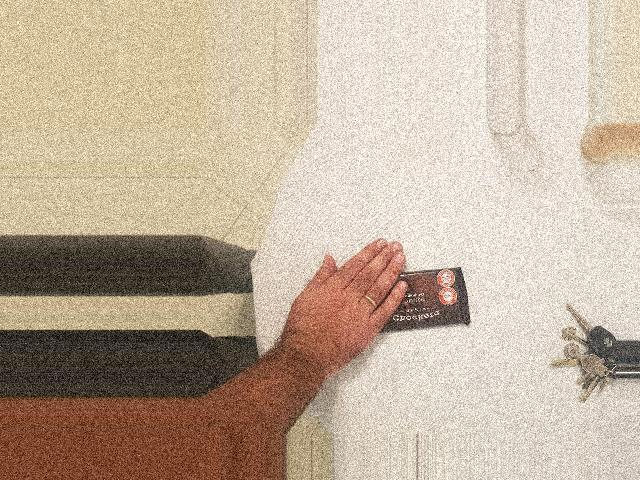chocolate: (316, 258, 475, 340)
